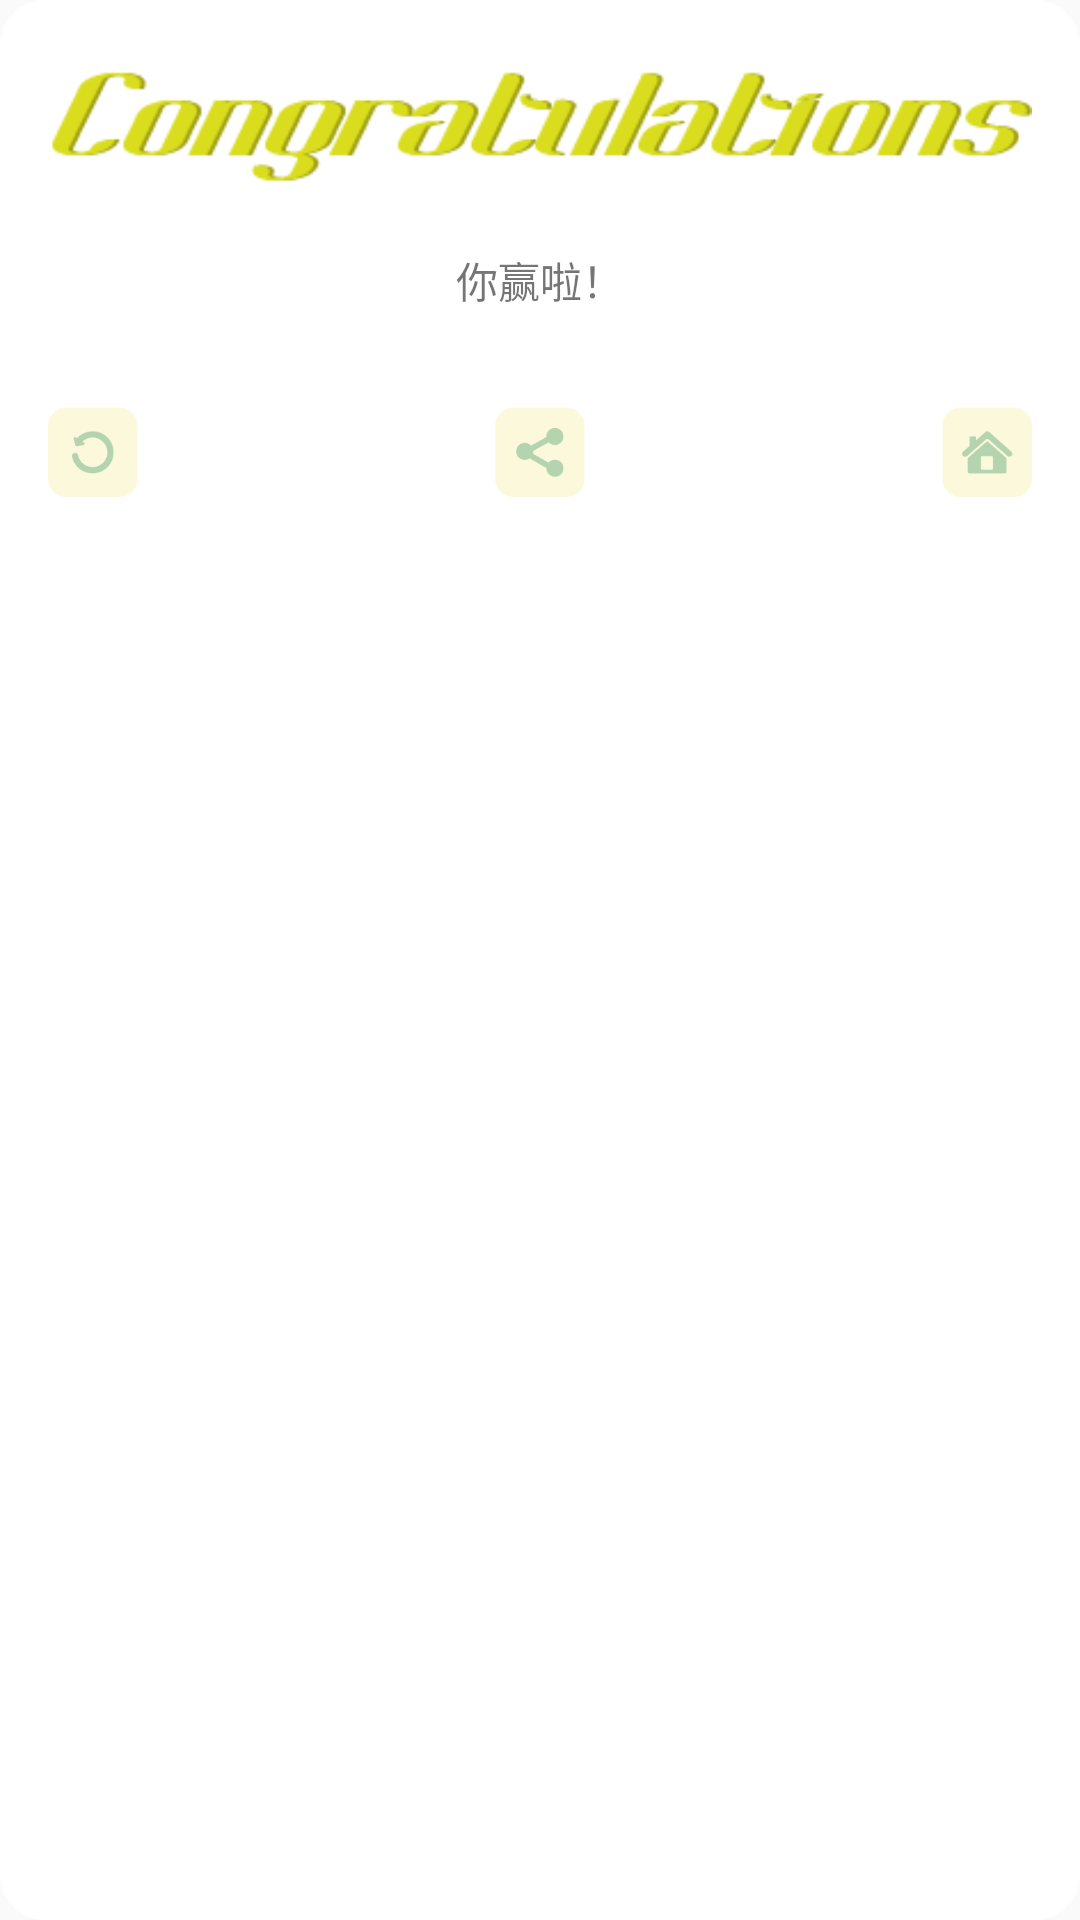

Icons on this 1080x1920 Android screen, each with its box as (x1, y1, x2, y2):
begin again: (48, 408, 137, 497)
home: (943, 408, 1032, 497)
share: (495, 408, 584, 497)
